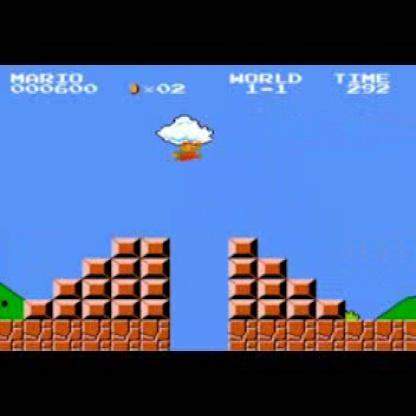Hoyo: (165, 320, 232, 350)
